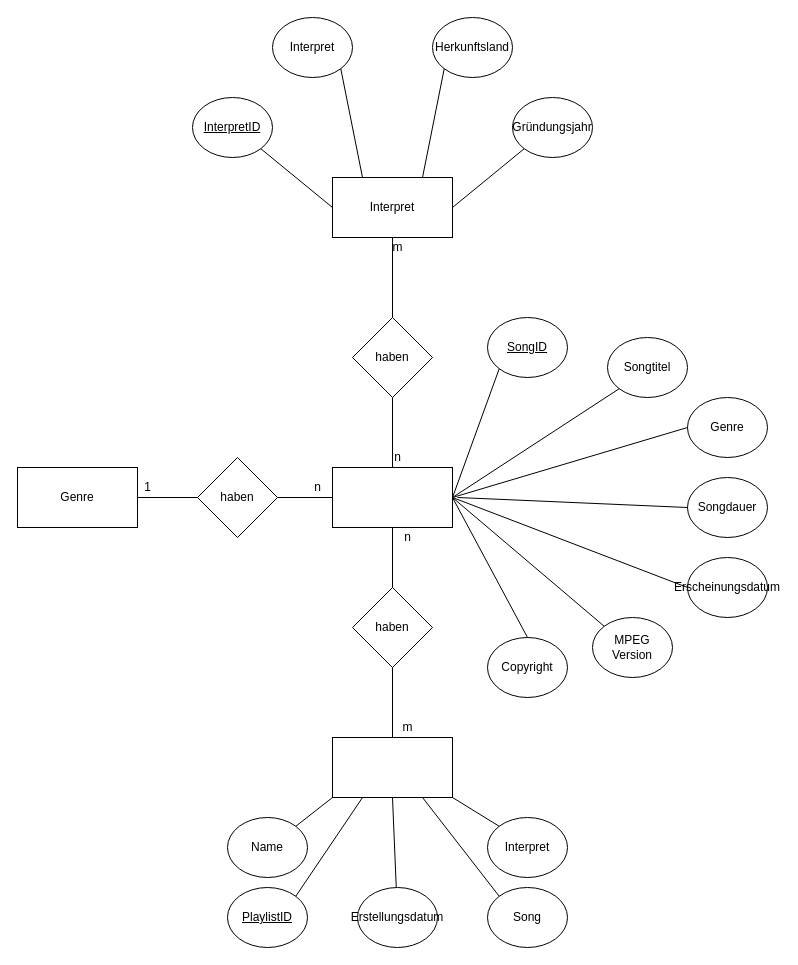
Some shapes in this 798 by 965 pixel diagram are drawn without their labels. The shapes that lost their labels are listed below. From the top down, each one's box as (x1, y1, x2, y2) in pixels, then its label:
(332, 466, 452, 528): Songs
(332, 736, 452, 798): Playlist
